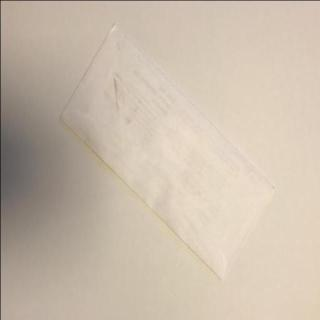Anorganik: (60, 20, 268, 282)
